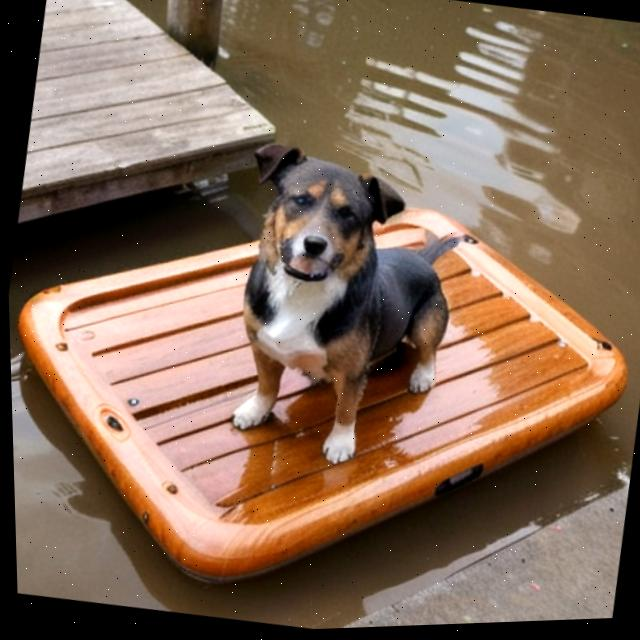dog: (181, 110, 503, 489)
